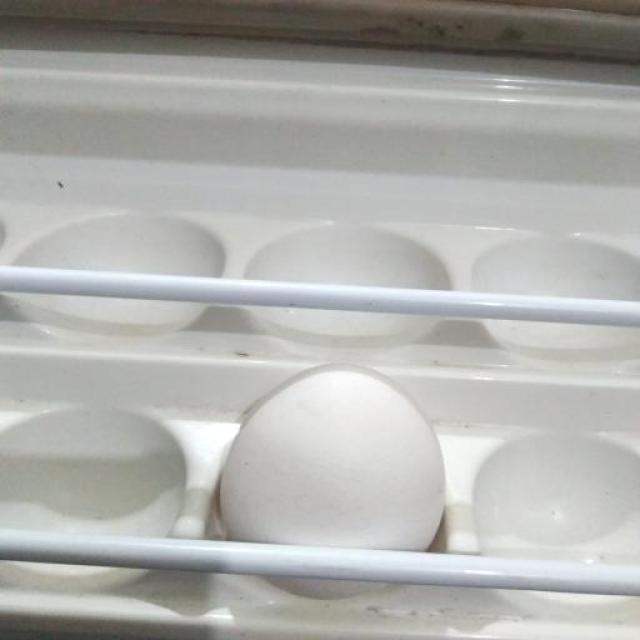telur: (216, 363, 443, 599)
